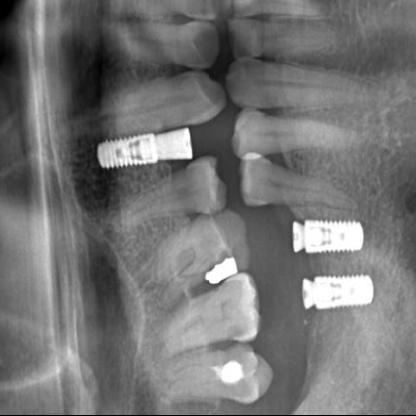ITI: (312, 262, 376, 336), (301, 205, 367, 255), (87, 124, 152, 170)
